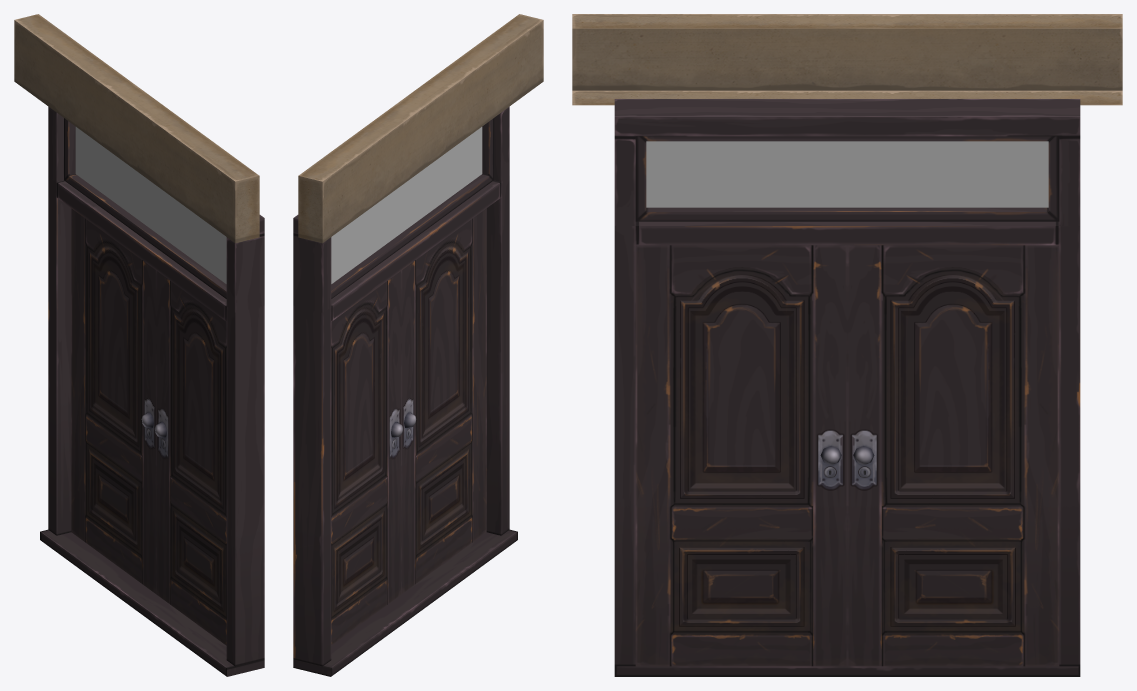
Rendered from door10.FBX.
3 views of the same model, side by side, from view 1: azimuth 30°, elevation 25°; view 2: azimuth 150°, elevation 25°; view 3: azimuth 270°, elevation 25° (orthographic). The views are drawn at different scales.
Visible parts, largest first — view 1: door10_frame, door10_L, door10_R, door10_glass; view 2: door10_frame, door10_R, door10_L, door10_glass; view 3: door10_frame, door10_L, door10_R, door10_glass.
Part boxes in pixels (bbox=[...]): door10_frame: bbox=[14, 14, 264, 676]; door10_L: bbox=[71, 208, 156, 593]; door10_R: bbox=[155, 271, 226, 645]; door10_glass: bbox=[75, 127, 226, 283]; door10_frame: bbox=[293, 14, 543, 676]; door10_R: bbox=[401, 208, 486, 593]; door10_L: bbox=[331, 271, 402, 645]; door10_glass: bbox=[331, 127, 482, 283]; door10_frame: bbox=[572, 14, 1122, 676]; door10_L: bbox=[847, 245, 1059, 666]; door10_R: bbox=[635, 245, 847, 666]; door10_glass: bbox=[646, 141, 1048, 207].
Size of the model in its own units: 36.45 by 331 by 260.
